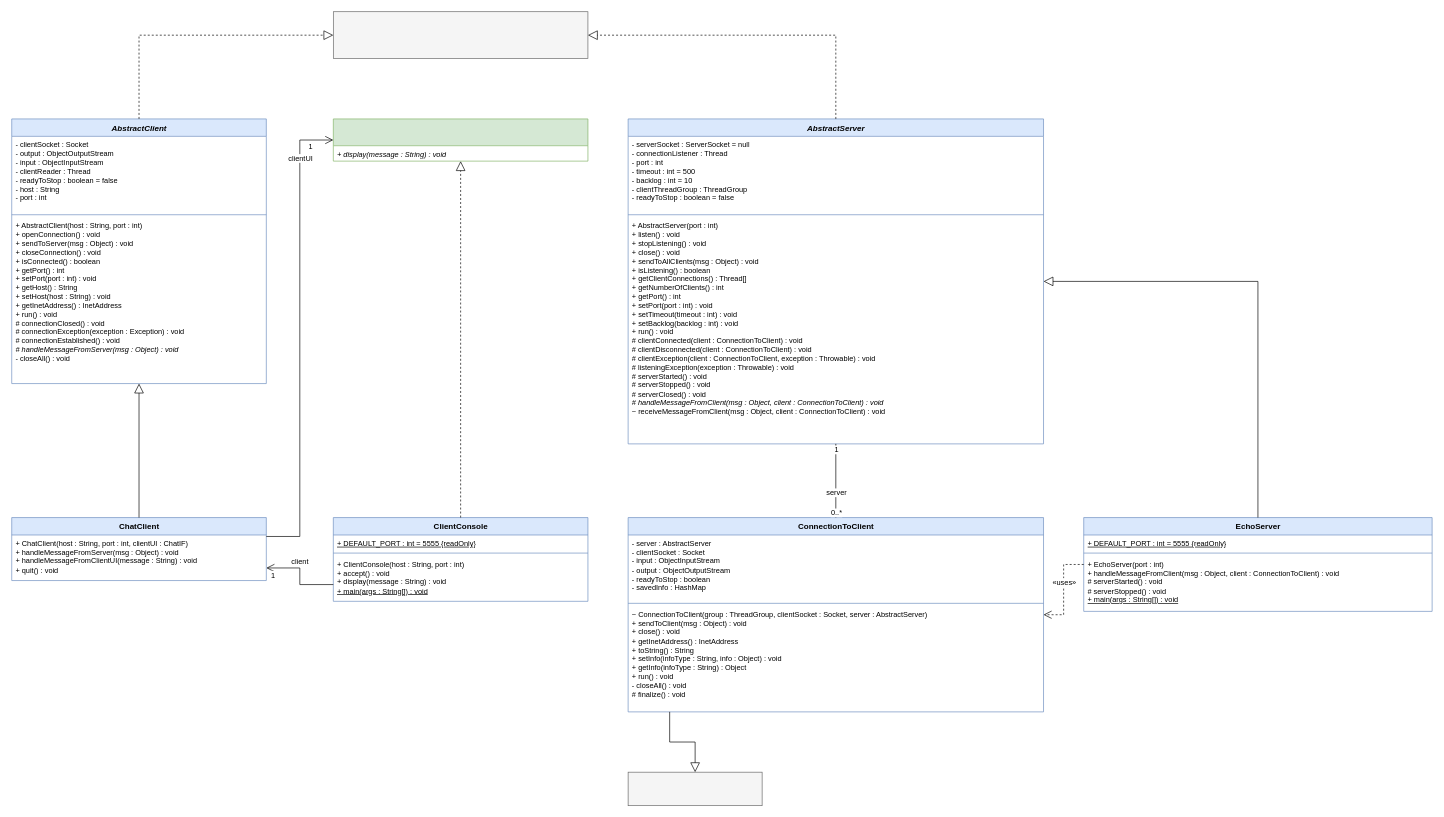
This 1444x817 diagram has some shape labels left out. The box of each missing label's shape, as (x1, y1, x2, y2) in pixels:
<<interface>> ChatIF: (333, 118, 588, 161)
<<interface>> Runnable (java.lang): (333, 11, 588, 59)
Thread (java.lang): (627, 772, 762, 806)
